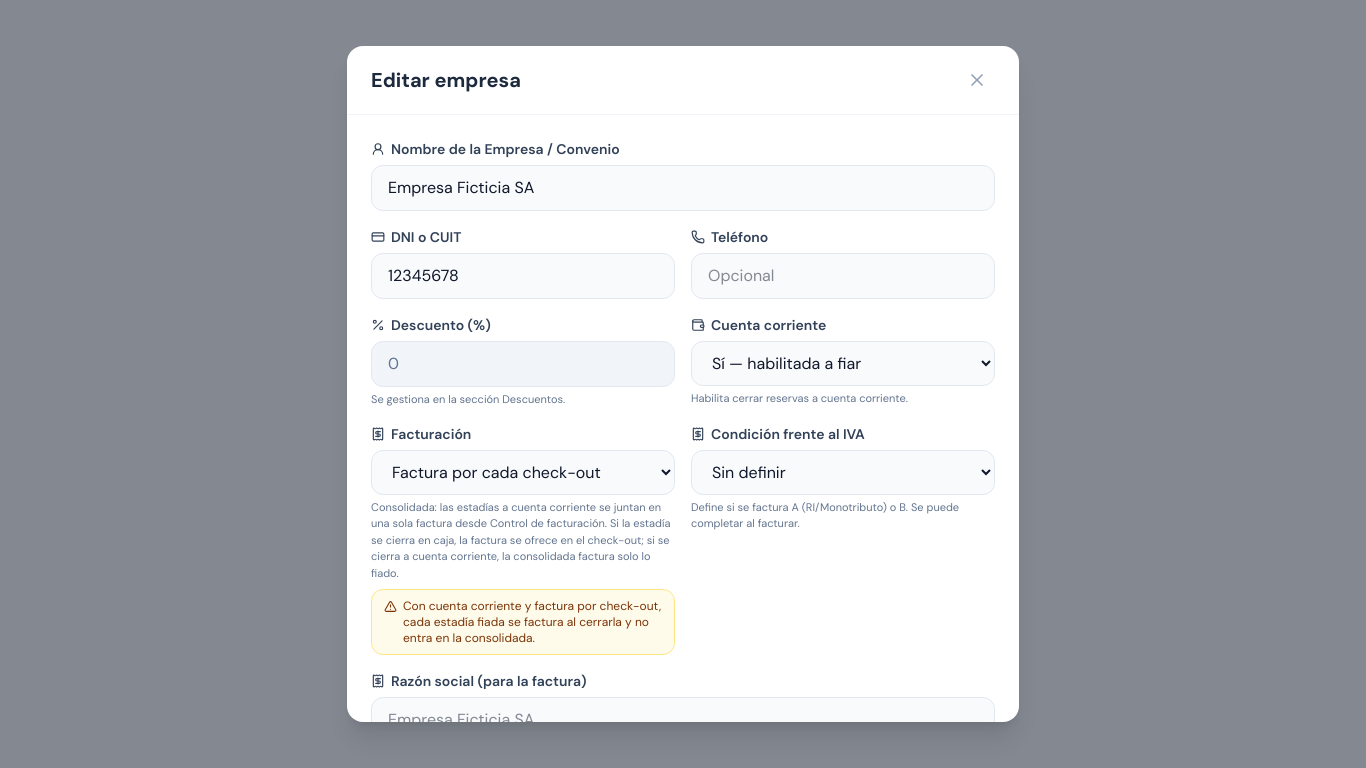
it: AssociatedClientModal: la consolidada de una empresa pide CUIT › pasar a mano a Consolidada una empresa con cuenta corriente y DNI muestra el aviso ámbar
The width and height of the screenshot is (1366, 768).
Select "Factura consolidada (la emite el admin)" in the dropdown labelled "Facturación": coordinates (523, 472) top-left (371, 450), bottom-right (675, 495)
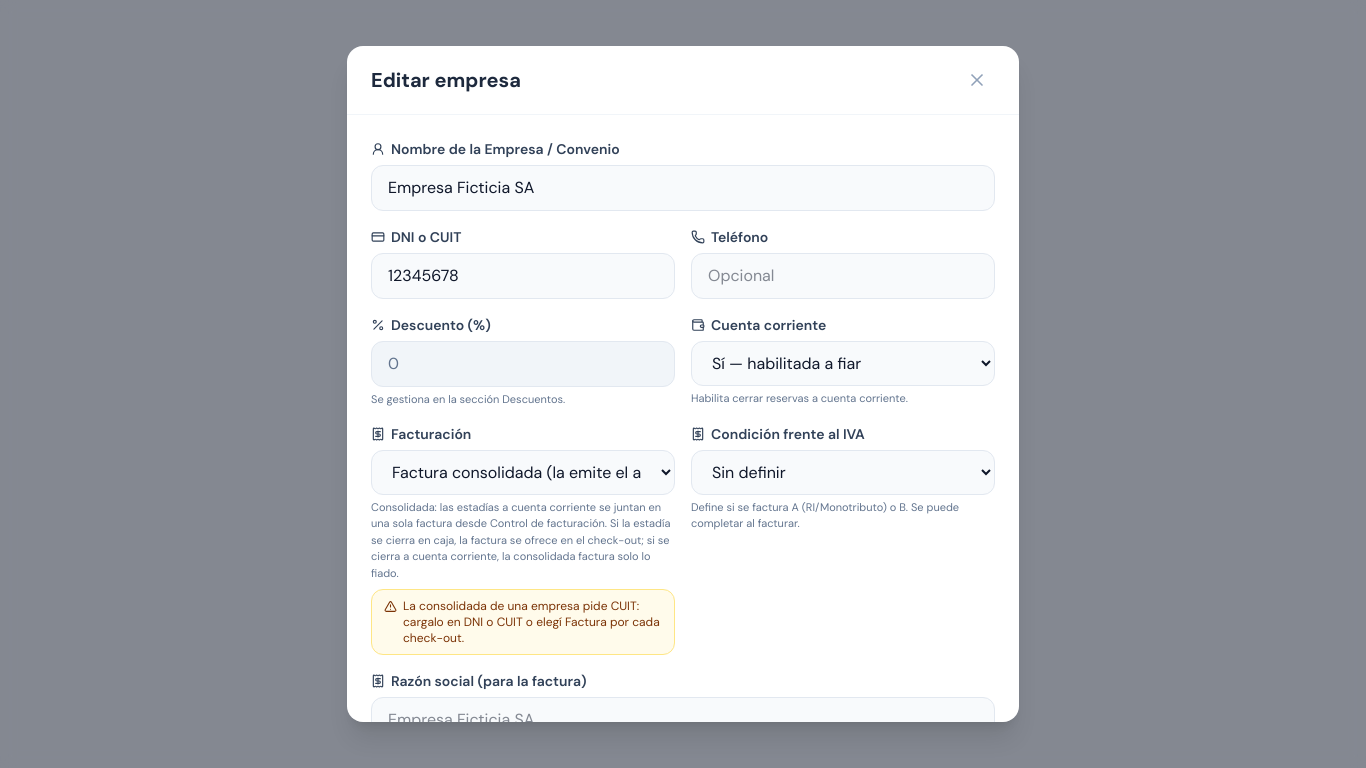
Expected: the text "no entra en la consolidada" is gone
